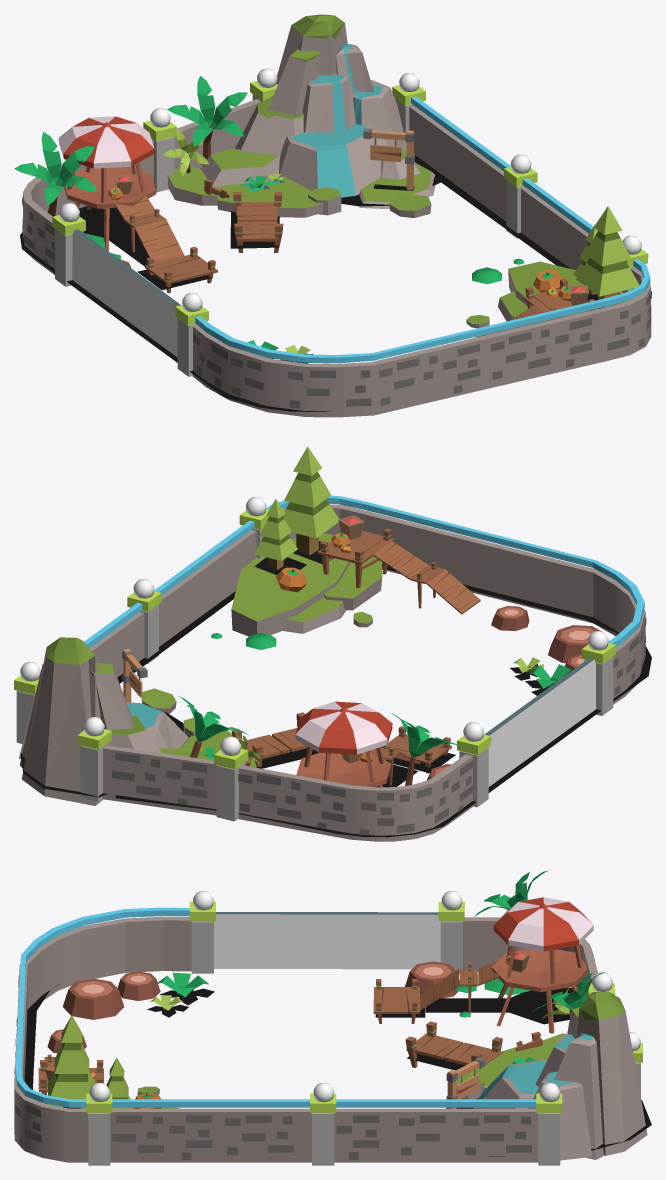
The model's file is xweilan_1008_5.FBX.
3 renders of one model, top to bottom at view 1: azimuth 30°, elevation 25°; view 2: azimuth 150°, elevation 25°; view 3: azimuth 270°, elevation 25°, orthographic.
Visible parts, largest first — view 1: xweilan_1008_5; view 2: xweilan_1008_5; view 3: xweilan_1008_5.
Part boxes in pixels (x1,y1,x2,y2): xweilan_1008_5: (14, 14, 651, 417); xweilan_1008_5: (14, 446, 651, 841); xweilan_1008_5: (14, 870, 651, 1165).
Bounding box in the file's own units: 4569 × 1496 × 6002.
